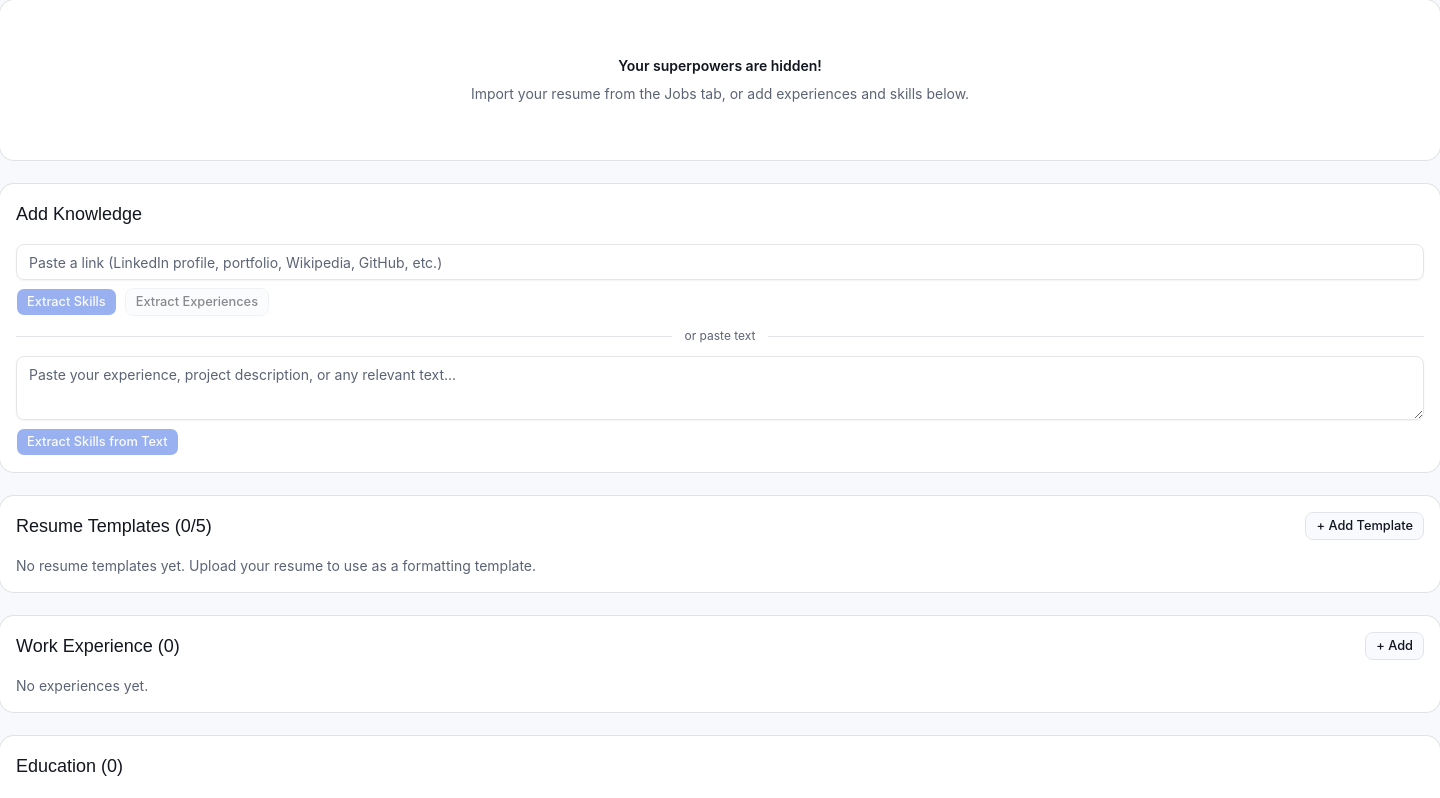
Workflow: Extract skills from link › shows the error description when extraction fails
Expected: the text "Add Knowledge" is shown, [16, 204, 142, 224]
Type "http://127.0.0.1/" into the field with placeholder "Paste a link". click: (720, 262)
box: [16, 244, 1424, 280]
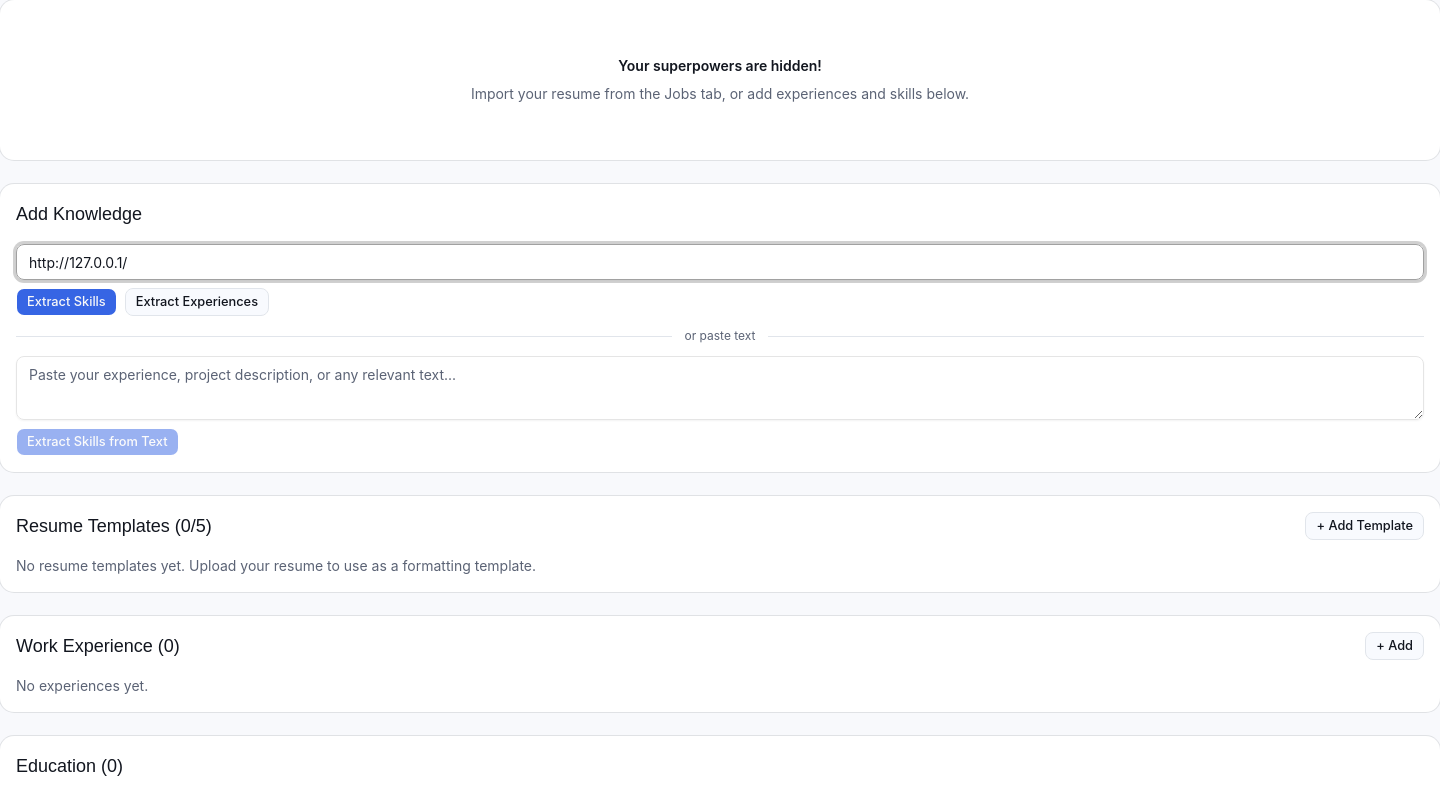
Click the button "Extract Skills". click: (66, 302)
box: [16, 288, 117, 316]
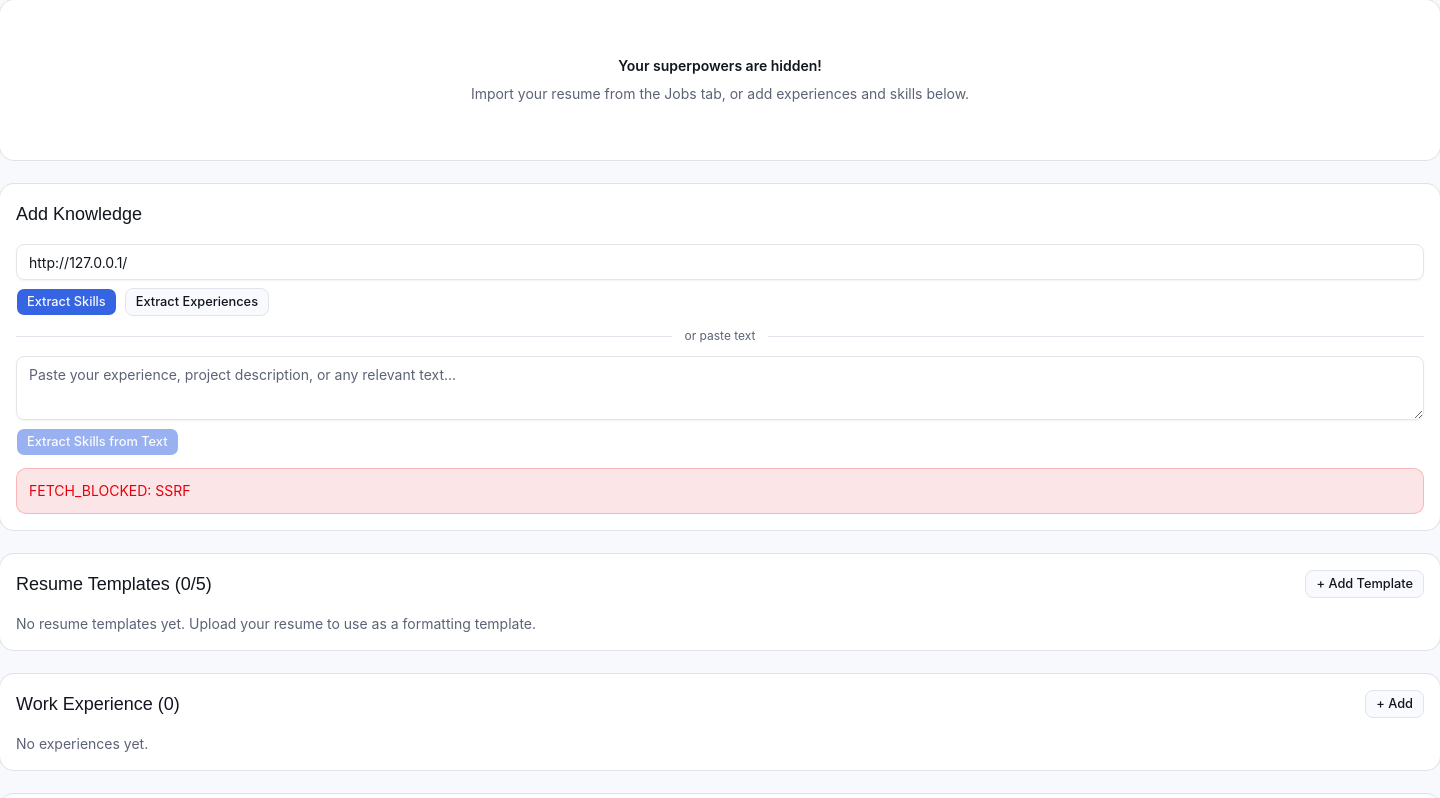
Result: the text "FETCH_BLOCKED: SSRF" is shown at [29, 482, 190, 499]
